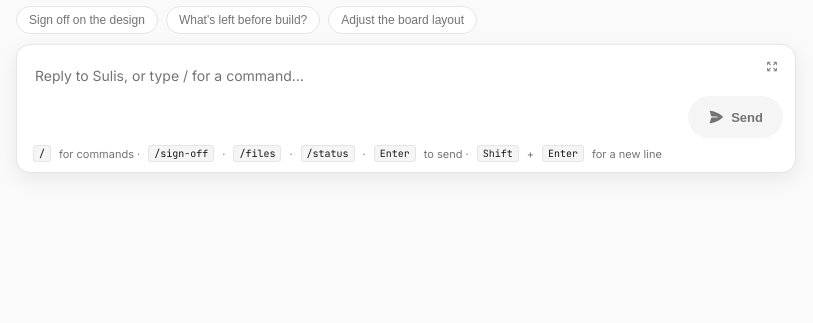
it: <Composer /> — the docked write surface (signed contract) › shows 'reply was interrupted' + preserves the partial on a mid-stream break (FR-22)
Type "hi" into the text box named "message this change's agent" at (354,98), box [29,57,678,138]
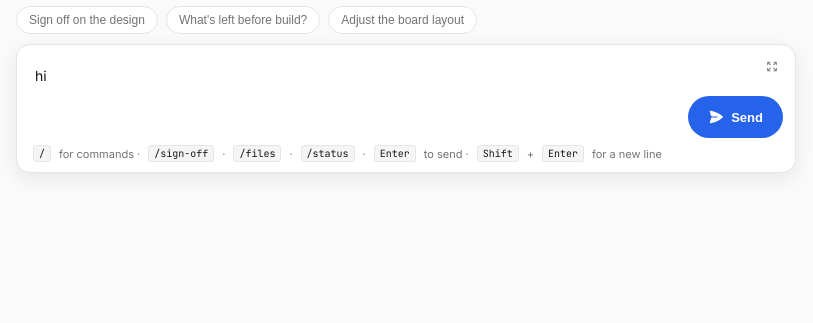
Press Enter in the text box named "message this change's agent", box [29,57,678,138]
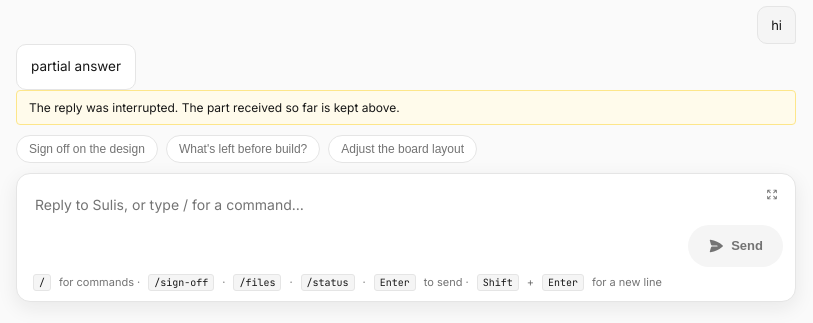
Now the text with test id "interrupted-note" is shown, box [16,90,796,125]
Now the text with test id "agent-reply" reads "partial answer", box [31,58,121,74]
